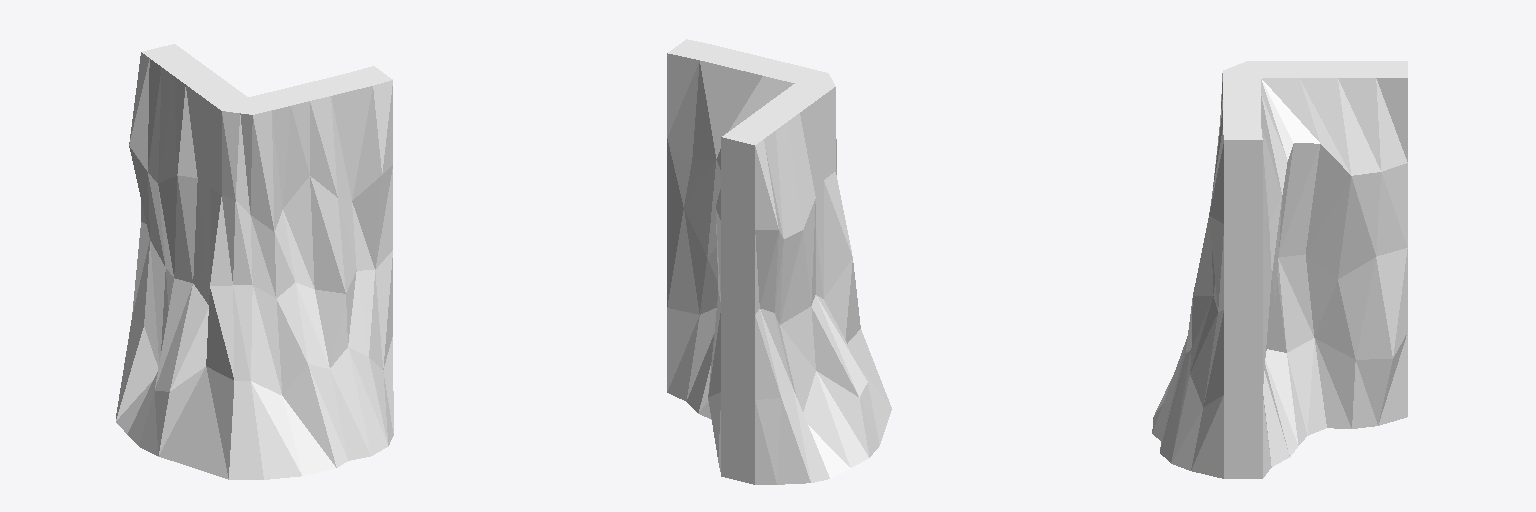
Rendered from Wall Ext Corner 002.obj.
3 renders of one model, left to right at view 1: azimuth 30°, elevation 25°; view 2: azimuth 150°, elevation 25°; view 3: azimuth 270°, elevation 25°, orthographic.
Parts seen in each view (by area): view 1: Wall Ext Corner 002; view 2: Wall Ext Corner 002; view 3: Wall Ext Corner 002.
Boxes of the visible parts, box(x1,y1,x2,y2) form: Wall Ext Corner 002: box(116, 44, 393, 479); Wall Ext Corner 002: box(667, 39, 891, 484); Wall Ext Corner 002: box(1152, 61, 1407, 478).
Size of the model in its own units: 38.15 by 56.59 by 38.59.